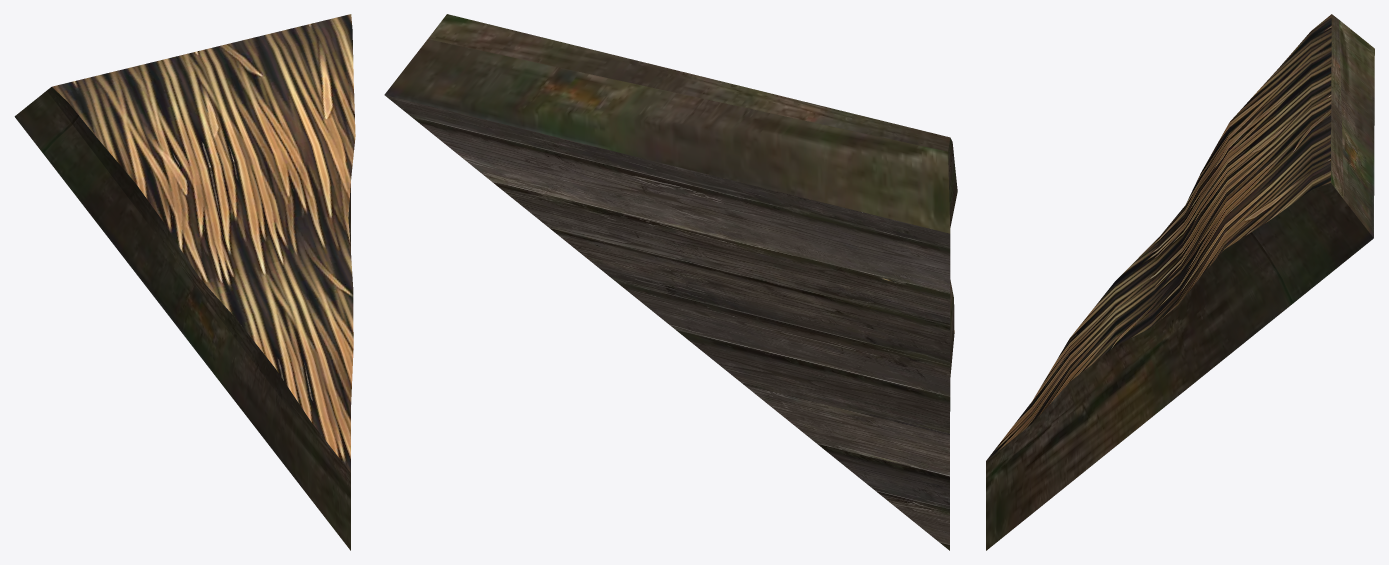
3 renders of one model, left to right at view 1: azimuth 30°, elevation 25°; view 2: azimuth 150°, elevation 25°; view 3: azimuth 270°, elevation 25°, orthographic. The views are drawn at different scales.
Parts seen in each view (by area): view 1: SM_BB_T1_Extended_Roof_Triangle_Med_LOD0; view 2: SM_BB_T1_Extended_Roof_Triangle_Med_LOD0; view 3: SM_BB_T1_Extended_Roof_Triangle_Med_LOD0.
Part boxes in pixels (x1,y1,x2,y2): SM_BB_T1_Extended_Roof_Triangle_Med_LOD0: (14, 14, 355, 550); SM_BB_T1_Extended_Roof_Triangle_Med_LOD0: (384, 14, 957, 550); SM_BB_T1_Extended_Roof_Triangle_Med_LOD0: (986, 14, 1374, 550).
Bounding box in the file's own units: 1.69 × 1.88 × 1.47.
Materials: 3 (3 with a texture image).
